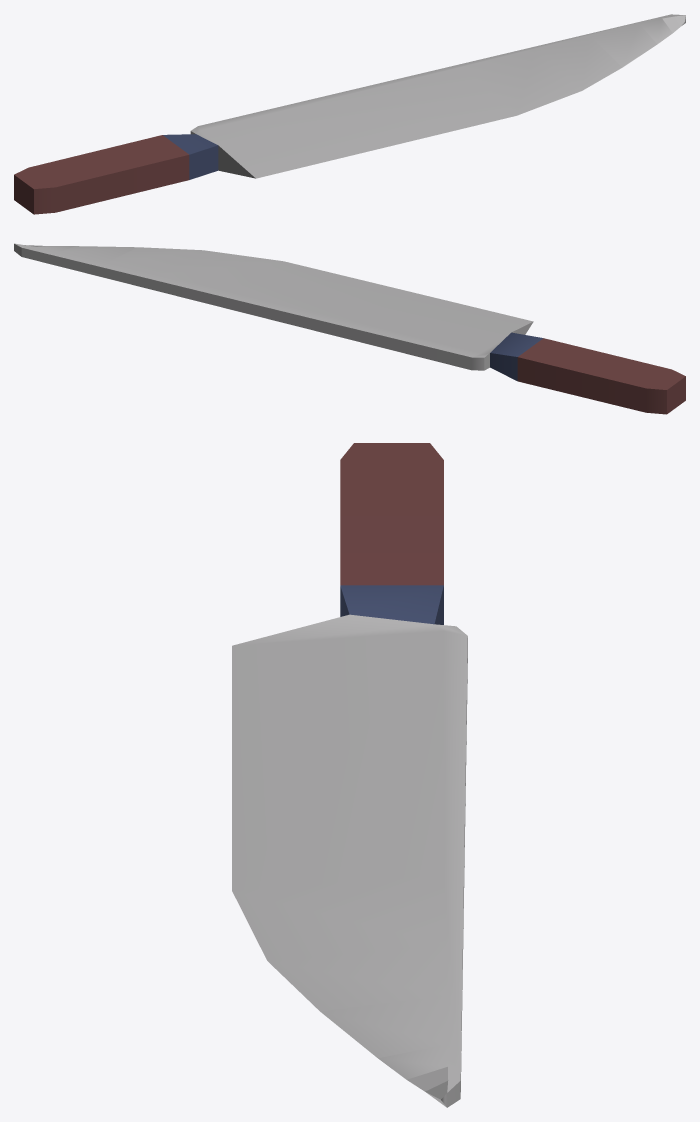
Rendered from Knife_Steak.fbx.
3 renders of one model, top to bottom at view 1: azimuth 30°, elevation 25°; view 2: azimuth 150°, elevation 25°; view 3: azimuth 270°, elevation 25°, orthographic. The views are drawn at different scales.
Parts seen in each view (by area): view 1: Knife; view 2: Knife; view 3: Knife.
Part boxes in pixels (x1,y1,x2,y2): Knife: (14,14,685,214); Knife: (14,243,685,414); Knife: (232,443,467,1107).
Size of the model in its own units: 65.2 by 2.34 by 10.26.
